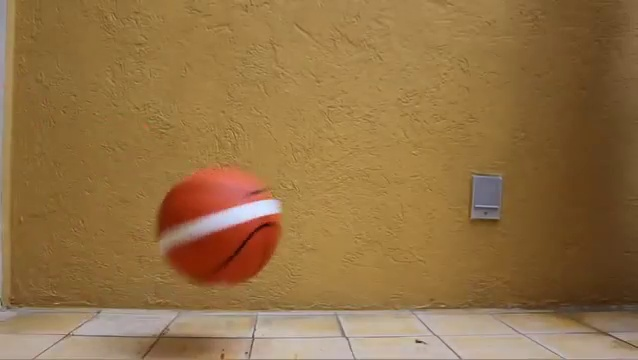ball: (157, 163, 286, 288)
